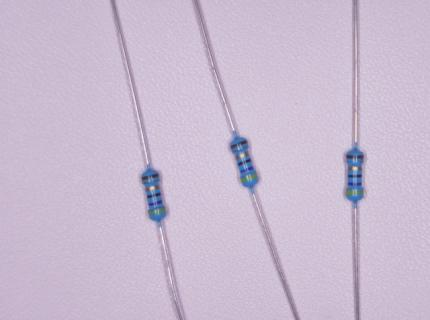Black band: (238, 158, 252, 166), (147, 192, 162, 199), (348, 175, 362, 178)
Brown band: (230, 140, 249, 149), (142, 173, 160, 181), (346, 154, 364, 159)
Gold band: (236, 151, 250, 160), (145, 184, 160, 192), (348, 166, 362, 171)
Violet band: (148, 199, 163, 207), (240, 166, 254, 174), (348, 182, 362, 186)
Yellow band: (240, 173, 259, 183), (148, 208, 166, 216), (345, 190, 363, 195)
